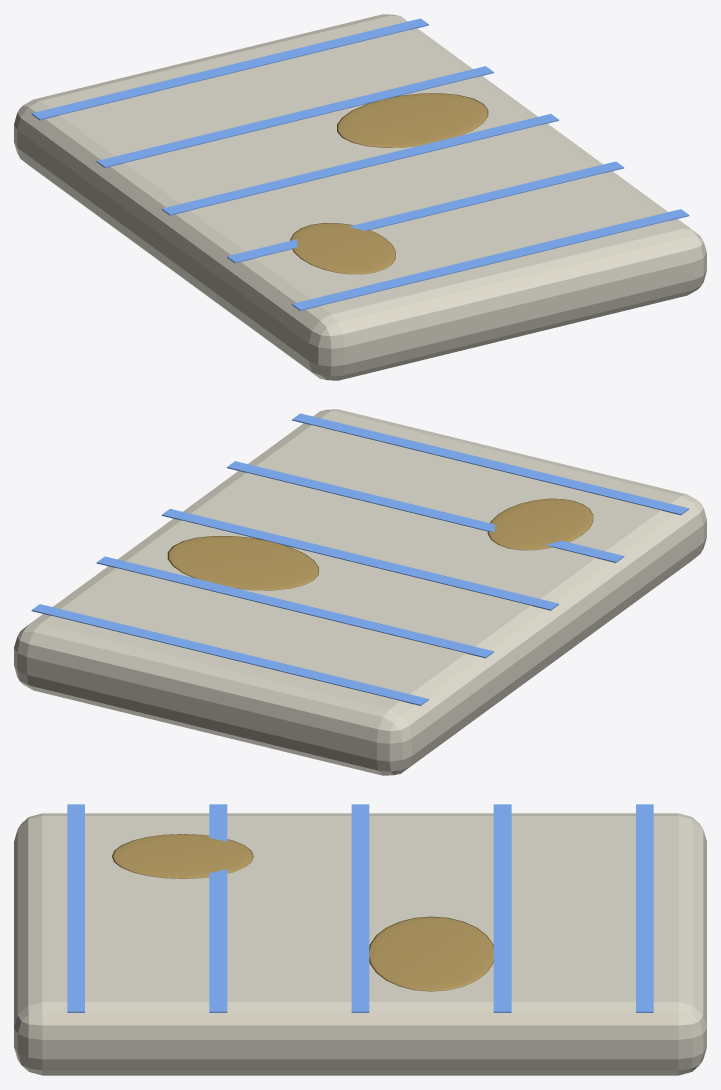
Rendered from Furn_Mattress.fbx.
3 renders of one model, top to bottom at view 1: azimuth 30°, elevation 25°; view 2: azimuth 150°, elevation 25°; view 3: azimuth 270°, elevation 25°, orthographic. The views are drawn at different scales.
Parts seen in each view (by area): view 1: Furn_Mattress; view 2: Furn_Mattress; view 3: Furn_Mattress.
Part boxes in pixels (bbox=[...]): Furn_Mattress: bbox=[14, 14, 706, 380]; Furn_Mattress: bbox=[14, 409, 706, 775]; Furn_Mattress: bbox=[14, 804, 706, 1075].
Bounding box in the file's own units: 1.4 × 0.226 × 1.95.
